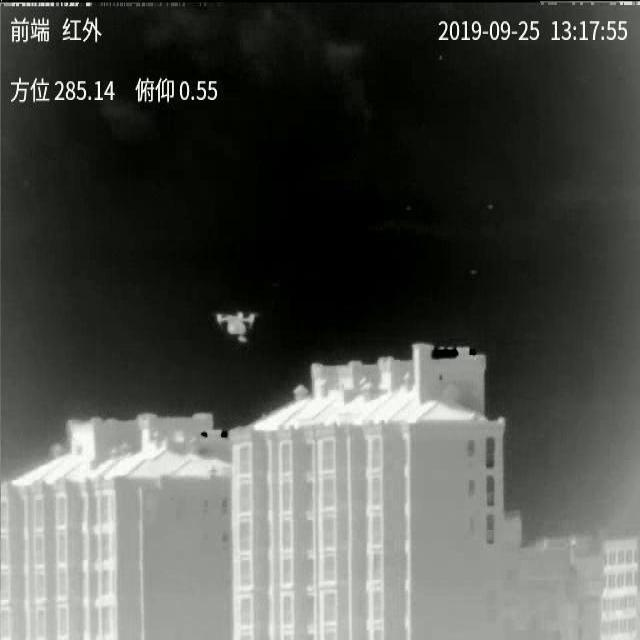drone: (216, 312, 257, 342)
